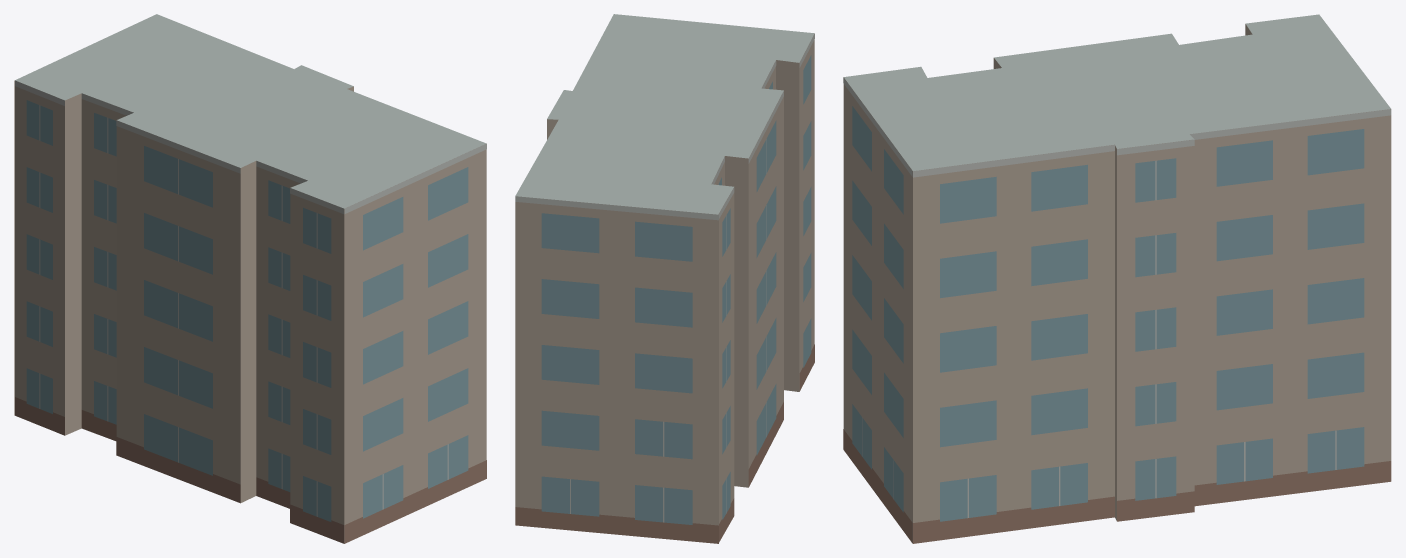
File: survey-upis-32620914.glb
3 renders of one model, left to right at view 1: azimuth 30°, elevation 25°; view 2: azimuth 150°, elevation 25°; view 3: azimuth 270°, elevation 25°, orthographic. The views are drawn at different scales.
Visible parts, largest first — view 1: survey-upis-32620914.tmp; view 2: survey-upis-32620914.tmp; view 3: survey-upis-32620914.tmp.
Boxes of the visible parts, <box> form: survey-upis-32620914.tmp: <box>14,14,486,543</box>; survey-upis-32620914.tmp: <box>515,14,814,543</box>; survey-upis-32620914.tmp: <box>843,14,1391,543</box>.
Bounding box in the file's own units: 12.9 × 14.25 × 18.99.
